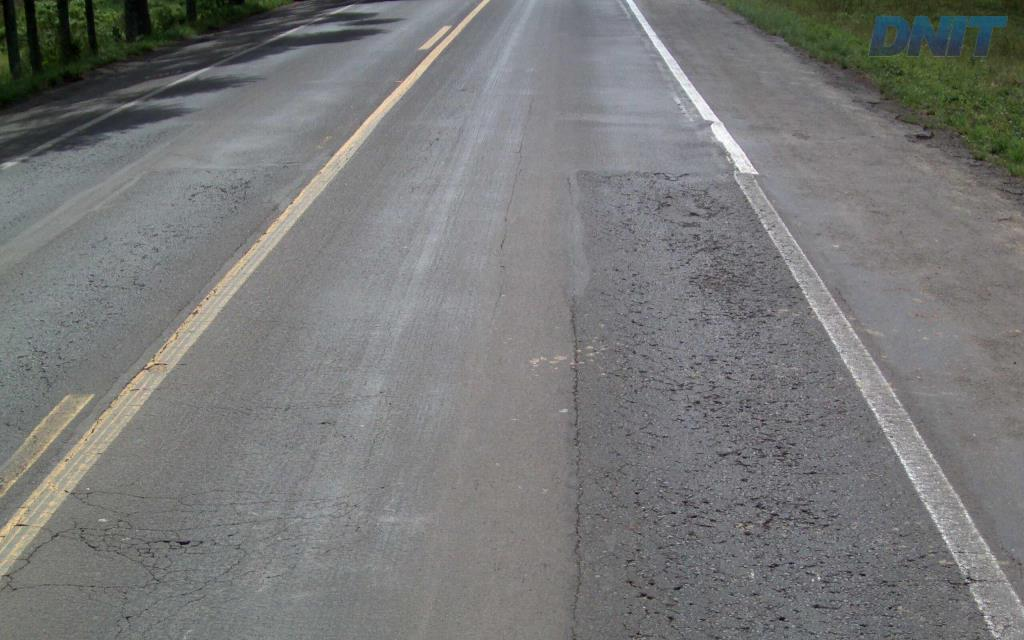crack: (715, 494, 840, 551), (624, 549, 698, 639), (688, 253, 774, 323), (715, 408, 804, 474), (842, 576, 919, 639), (655, 491, 720, 554), (126, 532, 204, 558), (725, 610, 789, 633)
